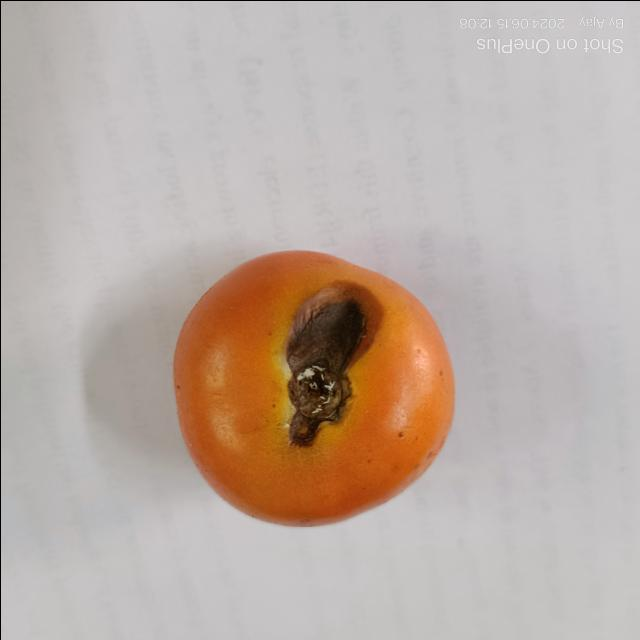Anthrocnose: (282, 285, 382, 445)
